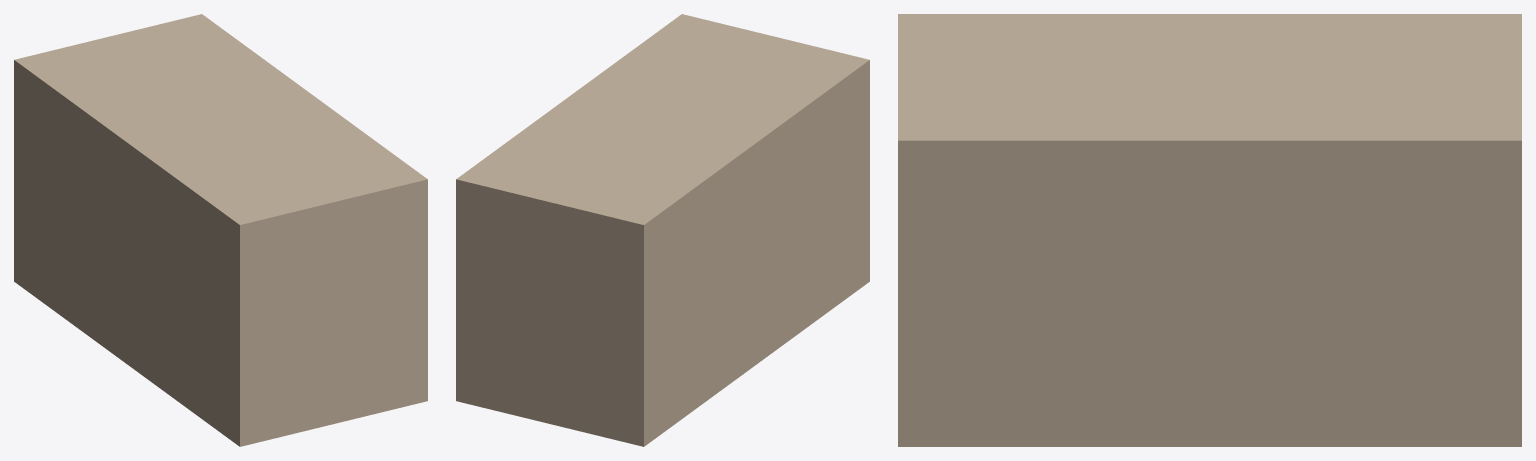
Rendered from massing.glb.
3 renders of one model, left to right at view 1: azimuth 30°, elevation 25°; view 2: azimuth 150°, elevation 25°; view 3: azimuth 270°, elevation 25°, orthographic. The views are drawn at different scales.
Visible parts, largest first — view 1: building/exterior; view 2: building/exterior; view 3: building/exterior.
Part boxes in pixels (box(x1,y1,x2,y2)): building/exterior: box(14, 14, 427, 446); building/exterior: box(456, 14, 869, 446); building/exterior: box(898, 14, 1521, 446).
Size of the model in its own units: 7.8 by 8.8 by 16.24.
